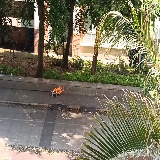fire: (53, 85, 65, 94)
